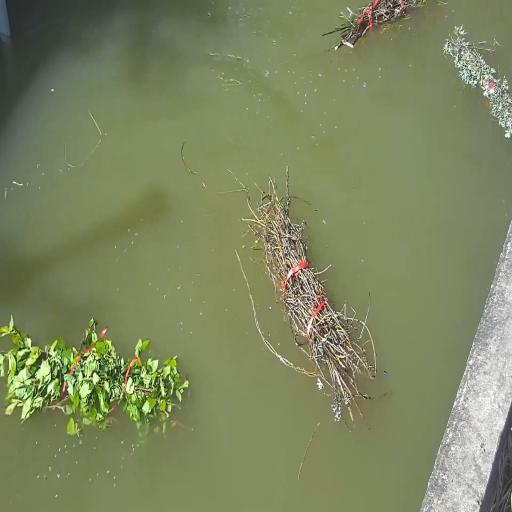twig: (243, 168, 375, 421), (0, 320, 189, 425), (443, 26, 512, 138), (323, 0, 426, 49)
